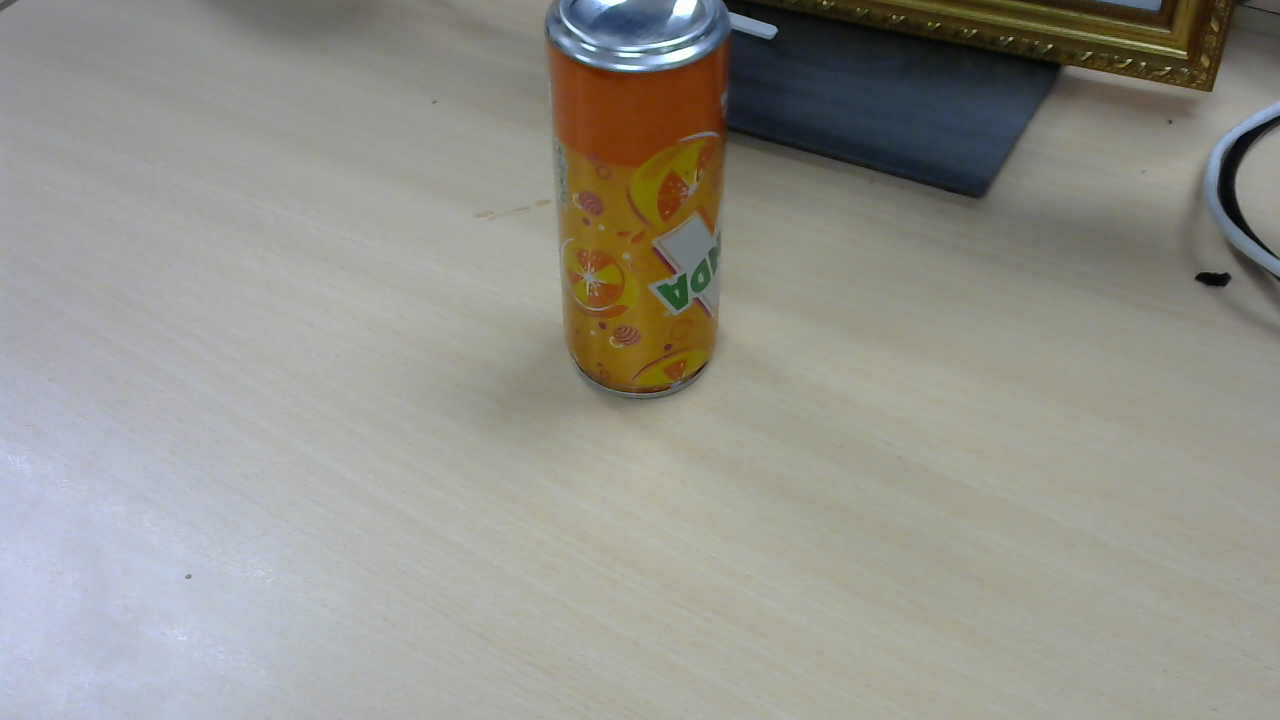Mirinda: (545, 5, 735, 403)
